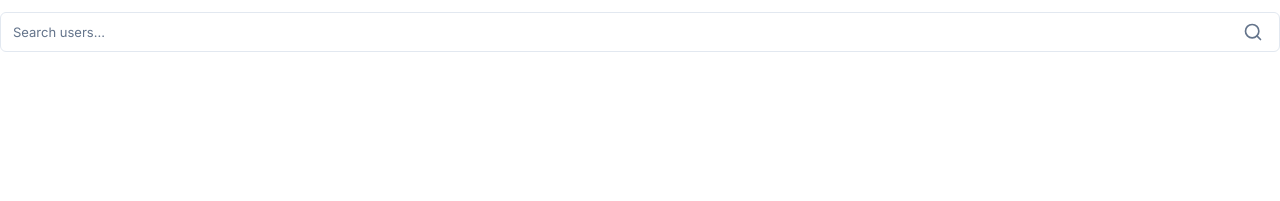
Scenario: UserLookup › shows email and profile details in the full owner picker
This screenshot has width=1280, height=201.
Focus the dropdown named "New Owner" at (622, 32), box [13,14,1231,50]
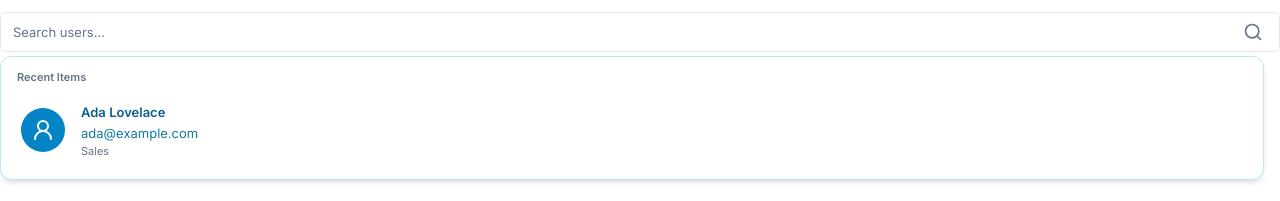
Check: the text "ada@example.com" is shown, box [81,123,198,143]
Check: the text "Sales" is shown, box [81,144,109,158]
